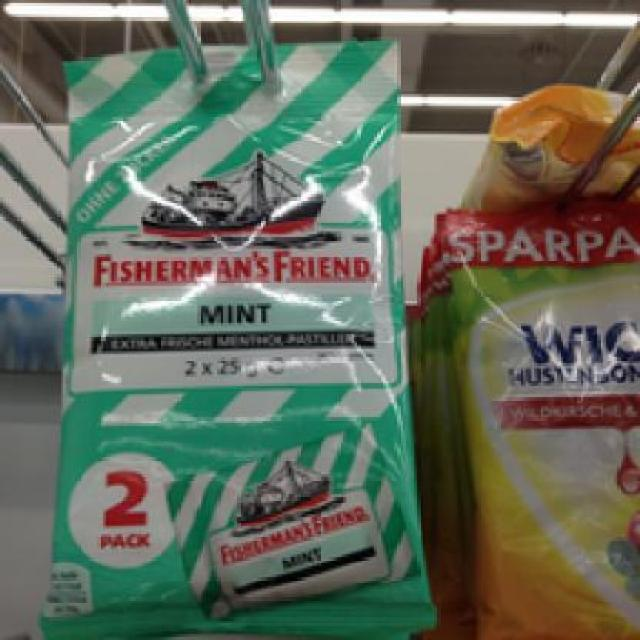Candy: (60, 39, 420, 632), (432, 196, 638, 630)
